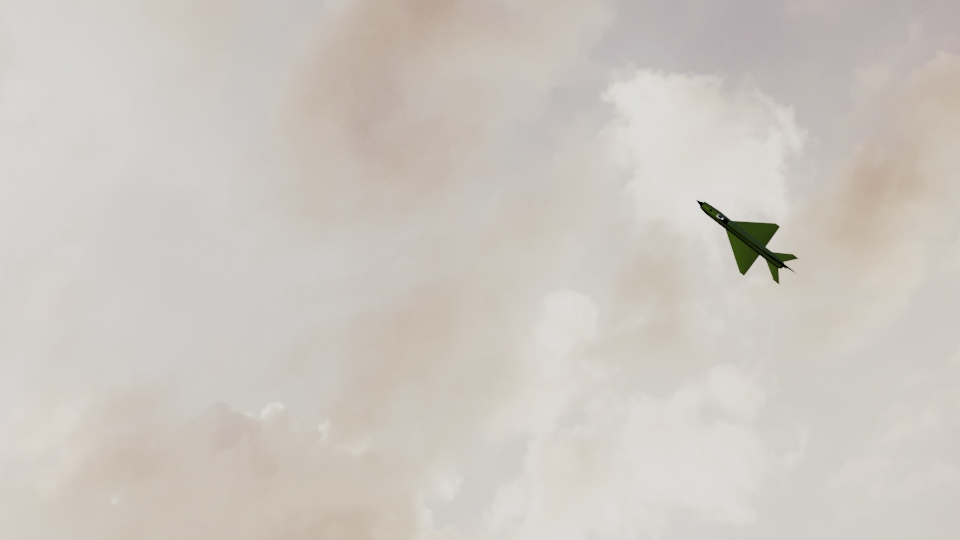plane: (695, 198, 800, 283)
